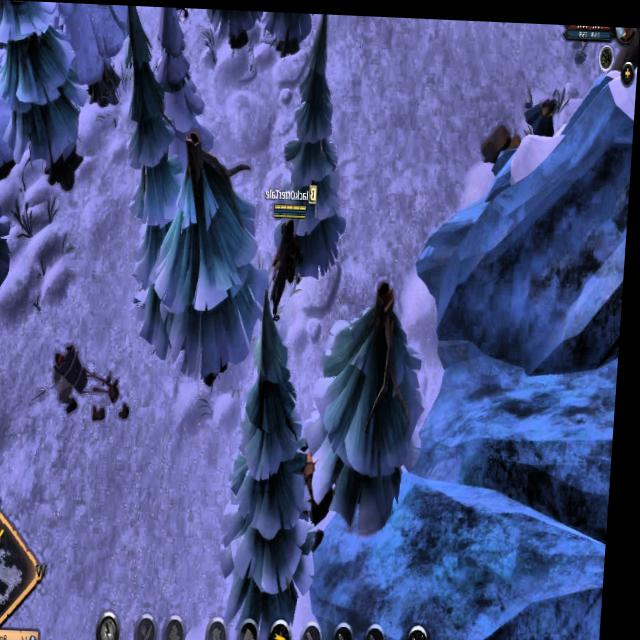copperore: (523, 86, 562, 133)
limestone: (480, 119, 527, 159)
